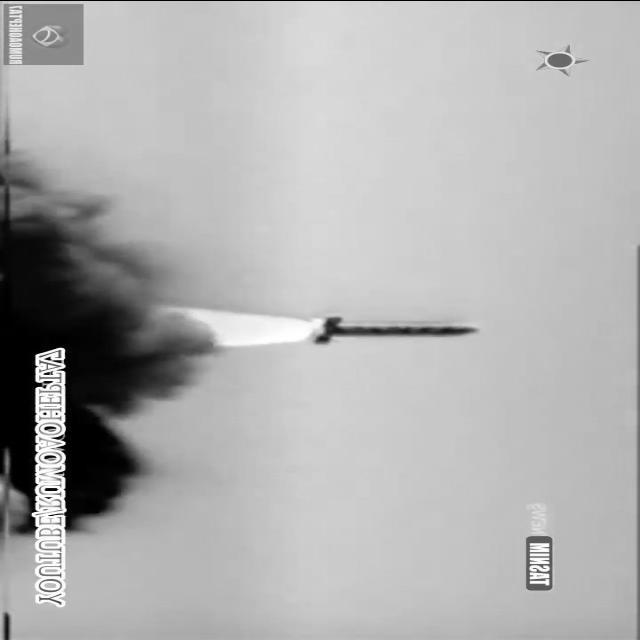missile: (293, 311, 491, 344)
